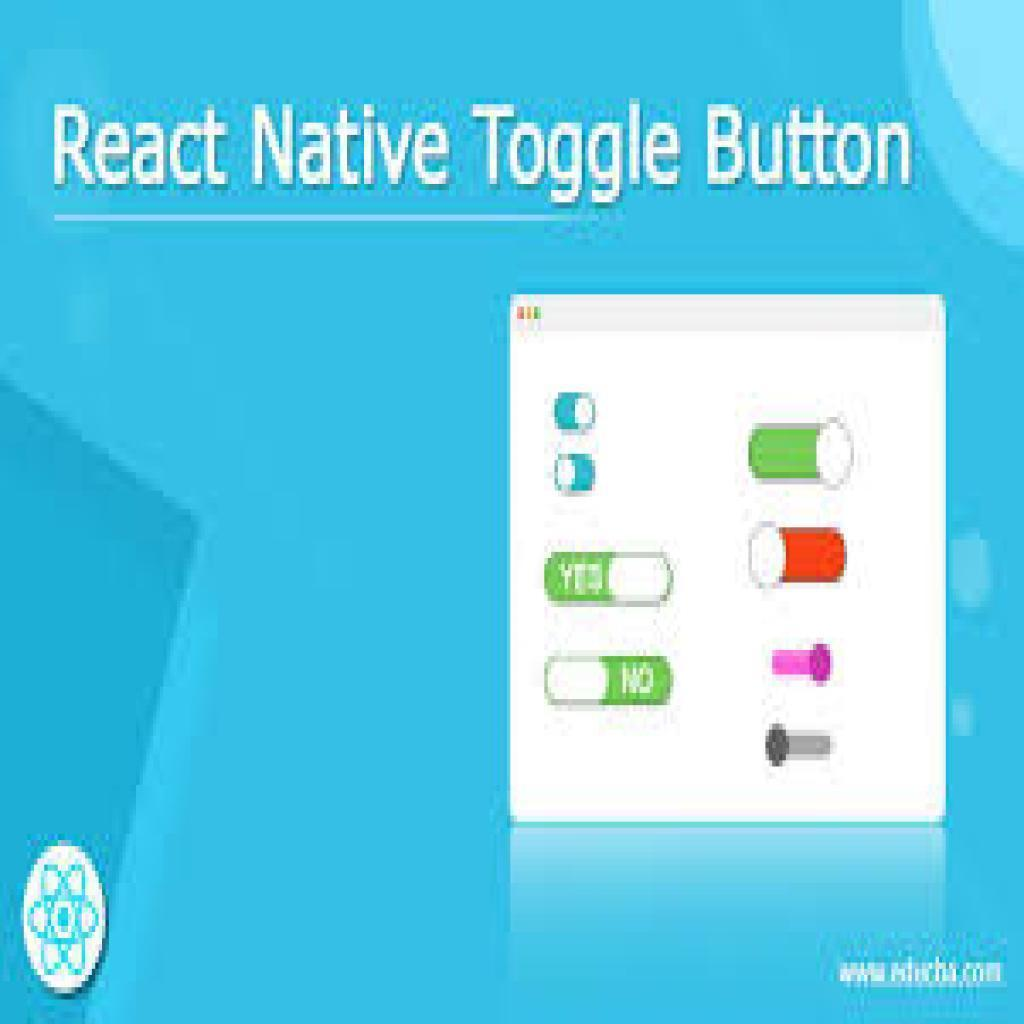switch: (542, 550, 677, 607), (747, 419, 854, 488), (546, 655, 674, 706), (746, 520, 847, 584), (766, 718, 836, 771), (770, 640, 833, 687), (551, 386, 604, 435), (552, 451, 601, 497)
